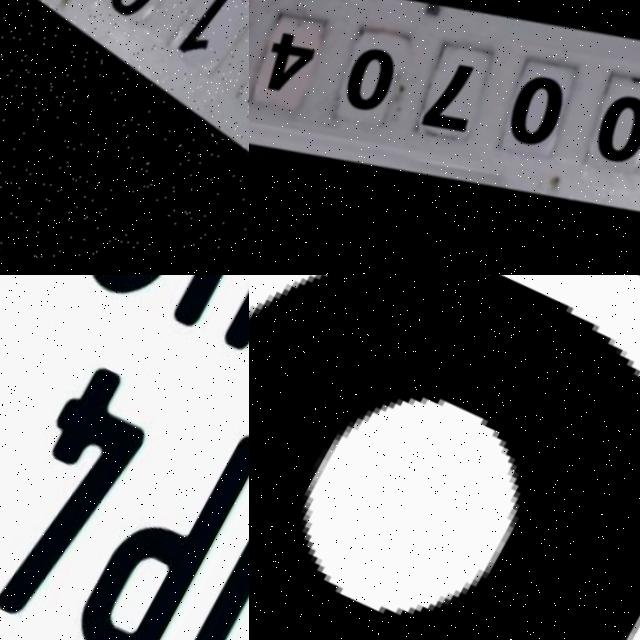0: (482, 54, 600, 183), (317, 21, 432, 150), (568, 71, 640, 205), (88, 0, 216, 58)
1: (168, 453, 249, 640), (156, 0, 249, 101)
4: (0, 357, 176, 636), (249, 7, 348, 129), (249, 11, 260, 109)
7: (398, 38, 517, 169)
8: (64, 275, 249, 317)
O: (249, 275, 640, 640)
P: (63, 406, 249, 640)
